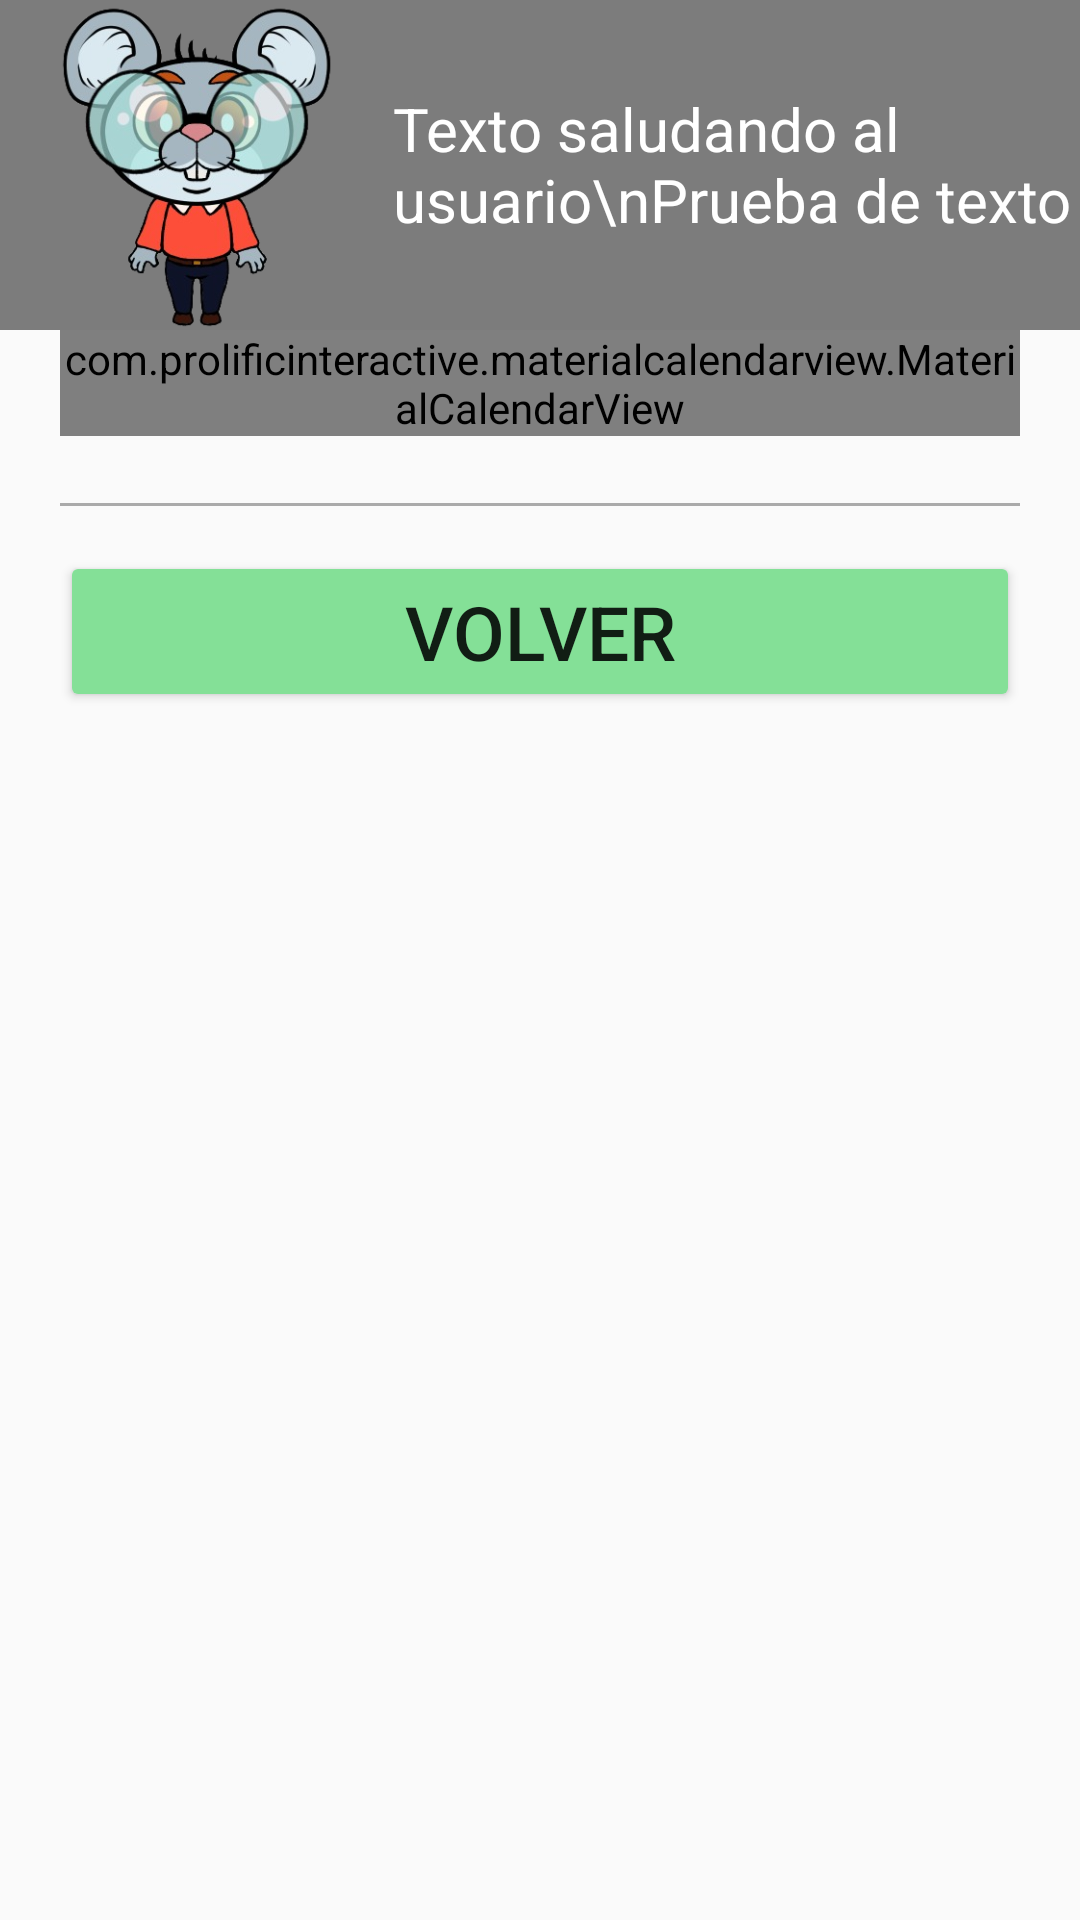

Where icons sit on this 1080 × 1920 app screen, as (x1=x1, y1=y1, x2=x2, y2=y2):
mouse: (x1=63, y1=8, x2=331, y2=326)
